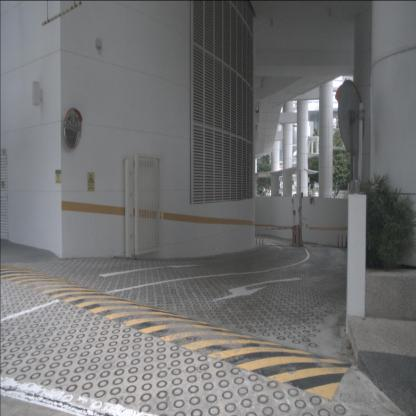cone: (344, 234, 348, 249), (337, 234, 340, 248), (341, 234, 343, 248)
